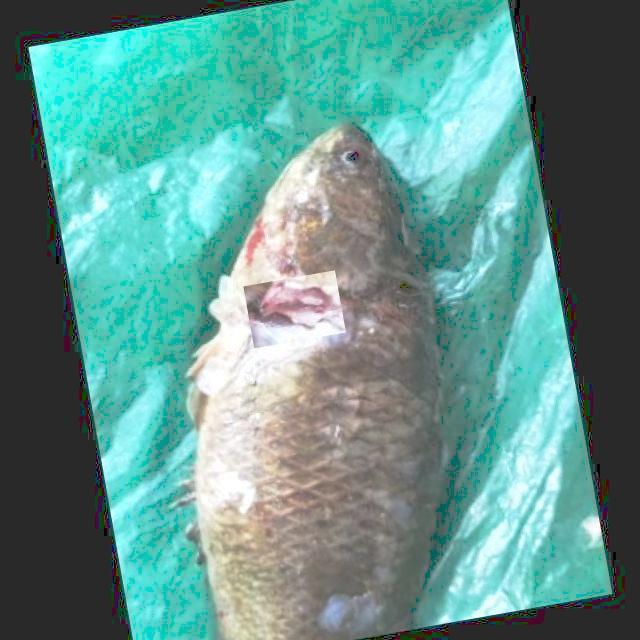Aeromonas Septicemia: (192, 122, 442, 640)
